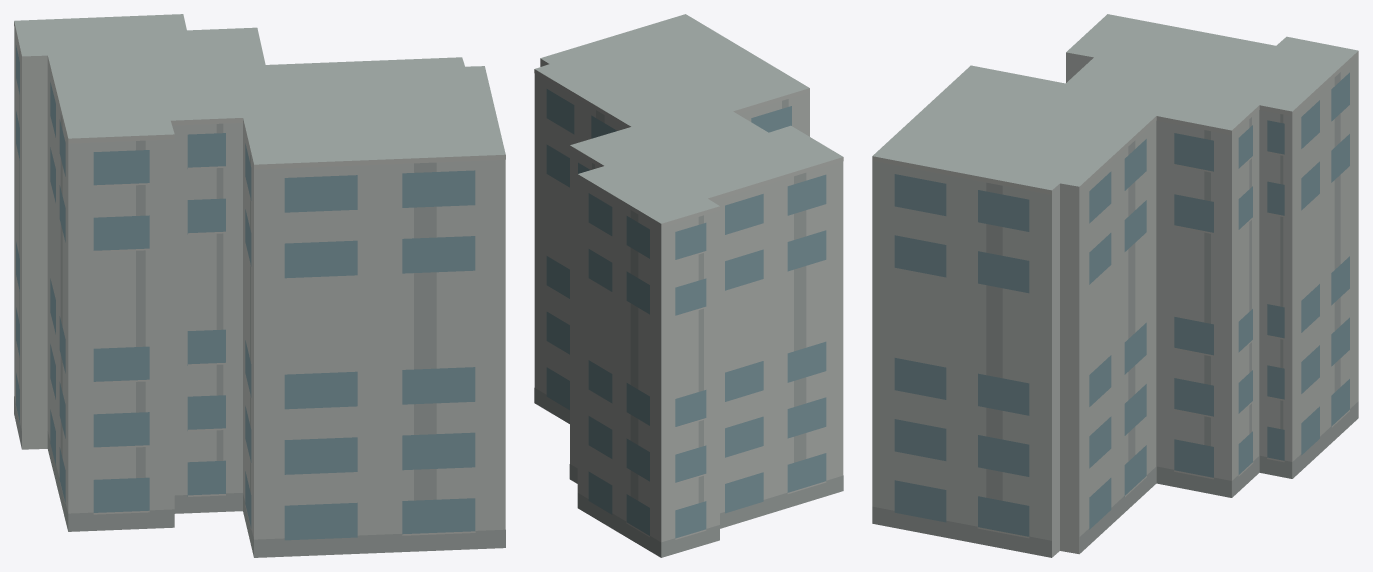
File: survey-upis-32550448.glb
3 renders of one model, left to right at view 1: azimuth 30°, elevation 25°; view 2: azimuth 150°, elevation 25°; view 3: azimuth 270°, elevation 25°, orthographic. The views are drawn at different scales.
Visible parts, largest first — view 1: survey-upis-32550448.tmp; view 2: survey-upis-32550448.tmp; view 3: survey-upis-32550448.tmp.
Part boxes in pixels (<box>): survey-upis-32550448.tmp: <box>14,14,505,557</box>; survey-upis-32550448.tmp: <box>534,14,843,557</box>; survey-upis-32550448.tmp: <box>872,14,1358,557</box>.
Size of the model in its own units: 19.57 by 19 by 22.8.
